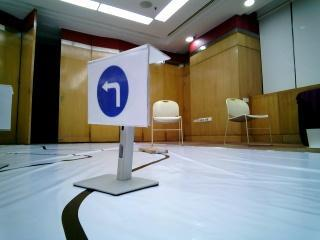left: (89, 63, 143, 121)
